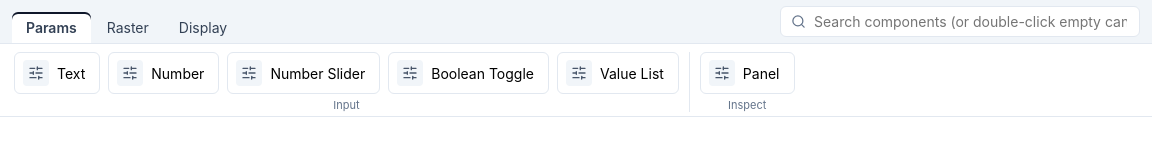
Test: catalog › the ribbon draws the server's tabs and labelled groups
change 03, section 1: Map Layer in Display › Style, Map Viewer in Display › Map
Step 1. Click the button with test id "tab-Display" → (203,28), box [165, 12, 241, 43]
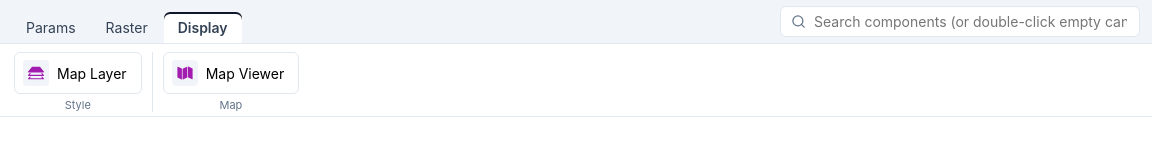
Expected: the element with test id "ribbon-group-Style" shows "Map Layer", [14, 52, 142, 94]
Expected: the element with test id "ribbon-group-Map" shows "Map Viewer", [163, 52, 299, 94]
Step 2. Click the button with test id "tab-Raster" → (127,28), box [92, 12, 162, 43]
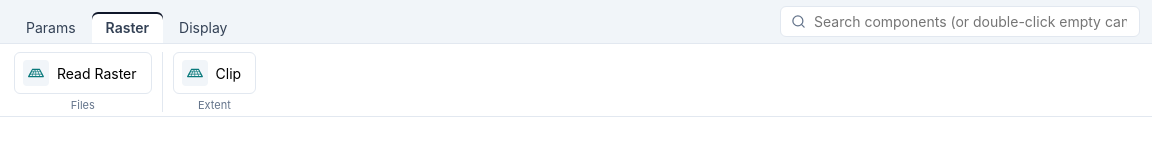
Expected: the element with test id "ribbon-group-Extent" shows "Clip", [172, 52, 256, 94]
Step 3. Type "clip" into the field with test id "ribbon-search" → (970,22), box [812, 12, 1129, 31]
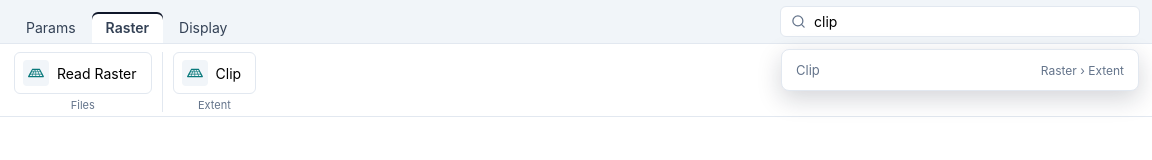
Expected: the list with class "gk-search-results" shows "Raster › Extent", [1041, 62, 1124, 78]
